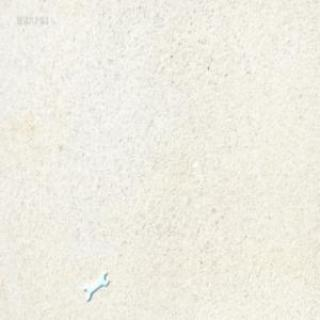Wrenchtrack_idkeyframe: (82, 270, 109, 301)
